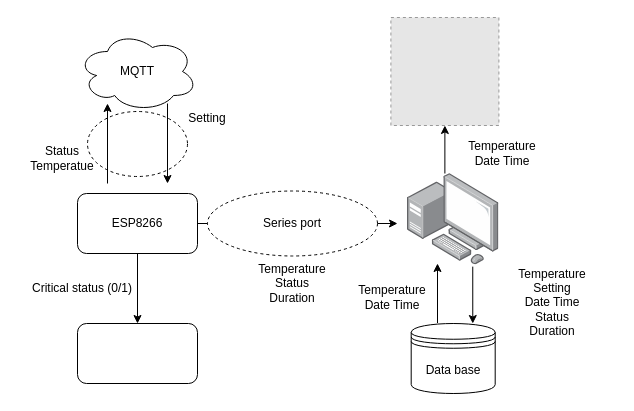
Some shapes in this 634 by 411 pixel diagram are drawn without their labels. Grey dashed boxes stand in for pictures. The shapes that lost their labels are listed below. From the top down, each one's box as (x1, y1, x2, y2) in pixels, then its label:
(86, 110, 188, 176): Wi-Fi
(76, 322, 198, 384): Arduino Uno
